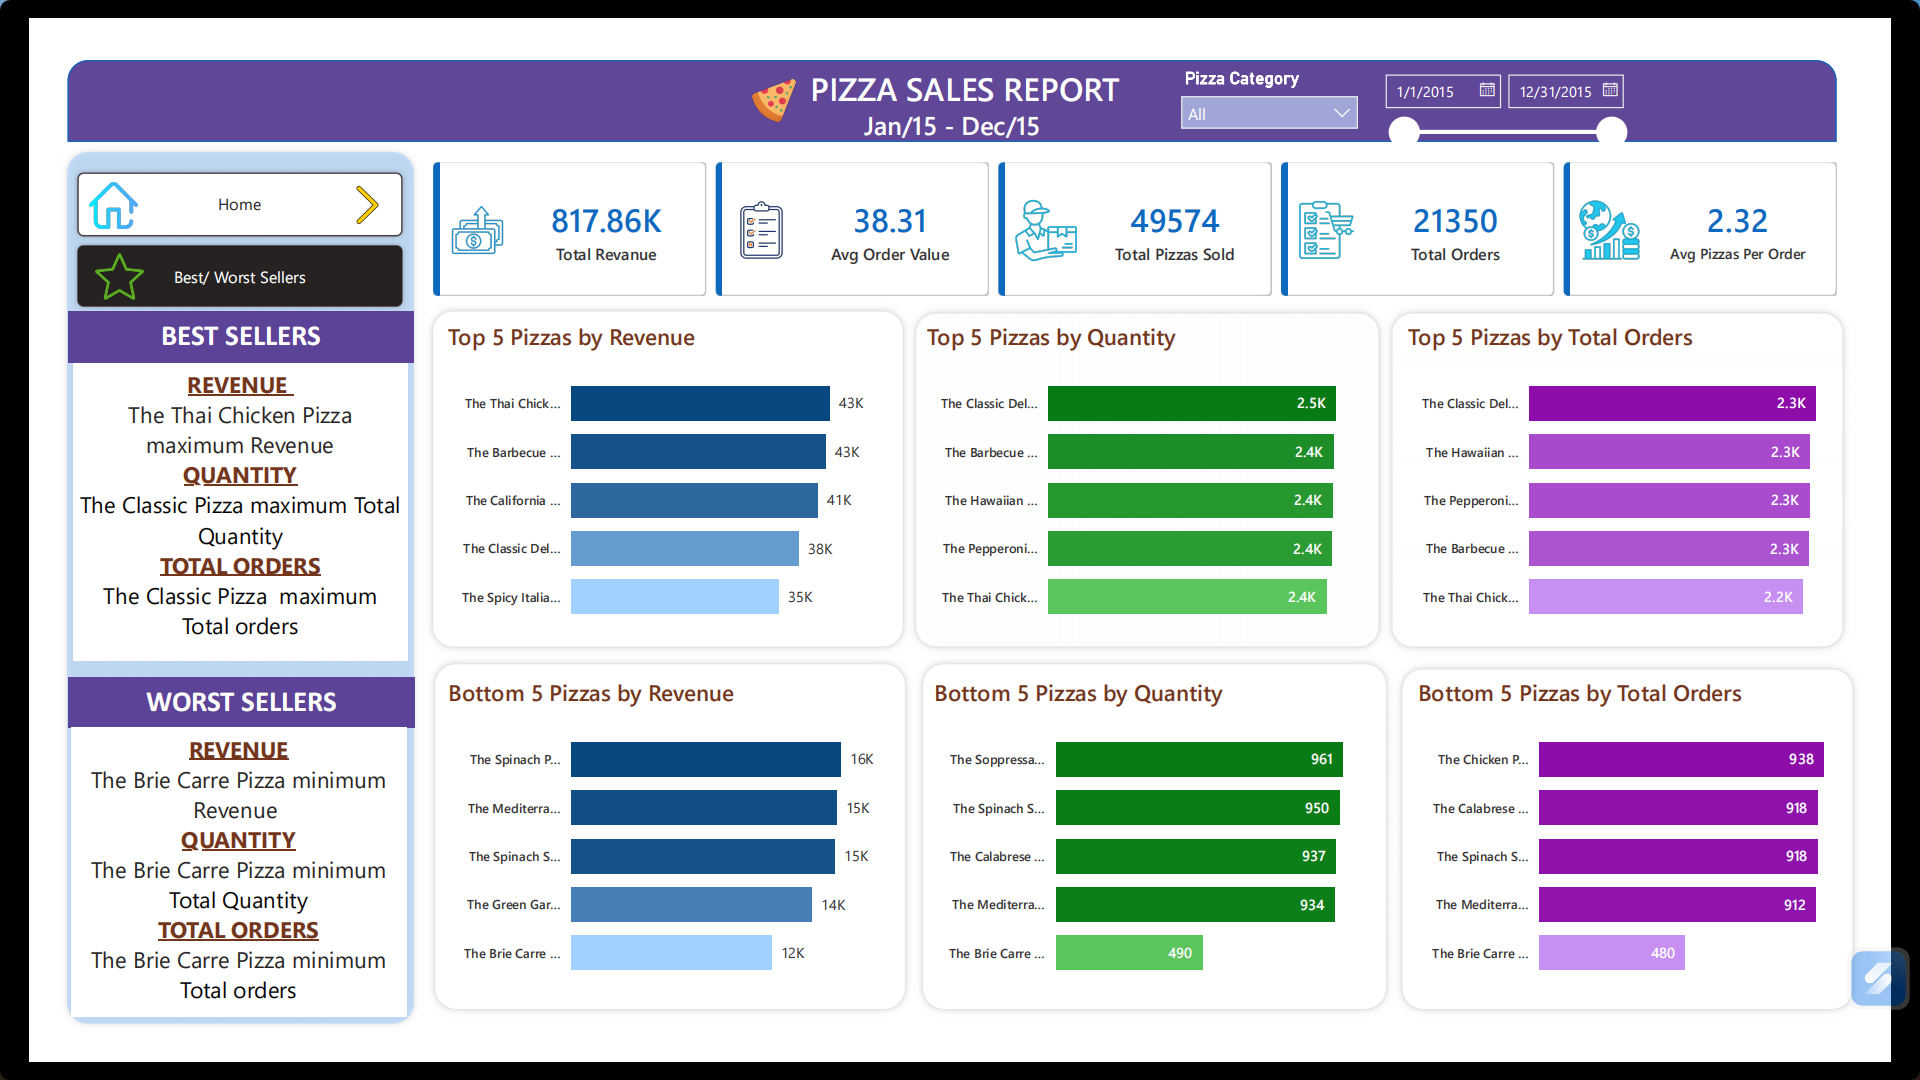

The page's visual inventory and layout, read from the dashboard file:
{"tool":"powerbi","page":{"name":"Best/ Worst Sellers  ","canvas":[1500,820],"ordinal":1},"visuals":[{"type":"cardVisual","fields":{"Data":["pizza_sales.Total Revanue","pizza_sales.Avg Order Value","pizza_sales.Total Pizzas Sold","pizza_sales.Total Orders","pizza_sales.Avg Pizzas Per Order"]},"box":[295.2,79.4,1204.7,144.8],"z":0},{"type":"shape","box":[8.4,11.1,1470.7,68],"z":1000},{"type":"textbox","box":[594.7,11.1,318.9,46],"z":2000},{"type":"textbox","box":[654.6,44.6,178.3,44.6],"z":3000},{"type":"image","box":[575.2,26.5,40.4,36.2],"z":4000},{"type":"shape","box":[304,212,406,294],"z":5000},{"type":"shape","box":[0,80,304.3,740],"z":6000},{"type":"textbox","box":[8.6,220,287.1,42.9],"z":7000},{"type":"textbox","box":[12.9,262.9,278.6,247.1],"z":8000},{"type":"textbox","box":[8.6,524.3,288.6,41.4],"z":9000},{"type":"textbox","box":[11.4,565.7,278.6,241.4],"z":10000},{"type":"slicer","fields":{"Values":["pizza_sales.pizza_category"]},"box":[923.8,12.5,167.5,67.5],"z":11000},{"type":"shape","box":[706,214,400,292],"z":12000},{"type":"shape","box":[1102,214,390,292],"z":13000},{"type":"shape","box":[306,506,406,302],"z":14000},{"type":"shape","box":[712,506,400,302],"z":15000},{"type":"shape","box":[1110,510,390,298],"z":16000},{"type":"barChart","title":"Top 5 Pizzas by Revenue","fields":{"Category":["pizza_sales.pizza_name"],"Y":["pizza_sales.Total Revanue"]},"box":[320,228,376,266],"z":17000},{"type":"barChart","title":"Bottom 5 Pizzas by Revenue","fields":{"Category":["pizza_sales.pizza_name"],"Y":["pizza_sales.Total Revanue"]},"box":[320,524,376,266],"z":18000},{"type":"barChart","title":"Top 5 Pizzas by Quantity","fields":{"Category":["pizza_sales.pizza_name"],"Y":["pizza_sales.Total Pizzas Sold"]},"box":[718,228,374,266],"z":19000},{"type":"barChart","title":"Bottom 5 Pizzas by Quantity","fields":{"Category":["pizza_sales.pizza_name"],"Y":["pizza_sales.Total Pizzas Sold"]},"box":[724,524,374,266],"z":20000},{"type":"barChart","title":"Top 5 Pizzas by Total Orders","fields":{"Category":["pizza_sales.pizza_name"],"Y":["pizza_sales.Total Orders"]},"box":[1118,228,374,266],"z":21000},{"type":"barChart","title":"Bottom 5 Pizzas by Total Orders","fields":{"Category":["pizza_sales.pizza_name"],"Y":["pizza_sales.Total Orders"]},"box":[1126,524,374,266],"z":22000},{"type":"pageNavigator","box":[12.9,101.4,277.1,60],"z":23000},{"type":"pageNavigator","box":[12.9,161.4,277.1,58.6],"z":24000},{"type":"image","box":[25.7,108.6,40,45.7],"z":25000},{"type":"image","box":[237.1,115.7,40,31.4],"z":26000},{"type":"image","box":[25.7,171.4,50,40],"z":27000},{"type":"slicer","fields":{"Values":["pizza_sales.order_date"]},"box":[1091.4,12.9,221.4,75.7],"z":28000}]}

Visuals, with their boxes in screenshot pixels (x1, y1, x2, y2), scaled from the page's 1500x820 canvas onto the 1920x1080 screenshot:
cardVisual - pizza_sales.Total Revanue x pizza_sales.Avg Order Value: bbox=(378, 105, 1919, 295)
shape: bbox=(11, 15, 1893, 104)
textbox: bbox=(761, 15, 1169, 75)
textbox: bbox=(838, 59, 1066, 117)
image: bbox=(736, 35, 788, 83)
shape: bbox=(389, 279, 909, 666)
shape: bbox=(0, 105, 390, 1079)
textbox: bbox=(11, 290, 378, 346)
textbox: bbox=(17, 346, 373, 672)
textbox: bbox=(11, 691, 380, 745)
textbox: bbox=(15, 745, 371, 1063)
slicer - pizza_sales.pizza_category: bbox=(1182, 16, 1397, 105)
shape: bbox=(904, 282, 1416, 666)
shape: bbox=(1411, 282, 1910, 666)
shape: bbox=(392, 666, 911, 1064)
shape: bbox=(911, 666, 1423, 1064)
shape: bbox=(1421, 672, 1919, 1064)
"Top 5 Pizzas by Revenue" barChart: bbox=(410, 300, 891, 651)
"Bottom 5 Pizzas by Revenue" barChart: bbox=(410, 690, 891, 1040)
"Top 5 Pizzas by Quantity" barChart: bbox=(919, 300, 1398, 651)
"Bottom 5 Pizzas by Quantity" barChart: bbox=(927, 690, 1405, 1040)
"Top 5 Pizzas by Total Orders" barChart: bbox=(1431, 300, 1910, 651)
"Bottom 5 Pizzas by Total Orders" barChart: bbox=(1441, 690, 1919, 1040)
pageNavigator: bbox=(17, 134, 371, 213)
pageNavigator: bbox=(17, 213, 371, 290)
image: bbox=(33, 143, 84, 203)
image: bbox=(303, 152, 355, 194)
image: bbox=(33, 226, 97, 278)
slicer - pizza_sales.order_date: bbox=(1397, 17, 1680, 117)
